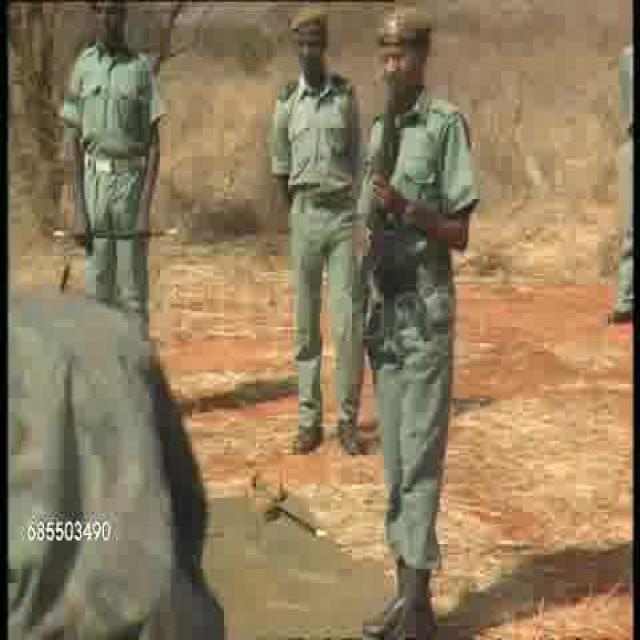poacher: (358, 4, 482, 538), (266, 1, 368, 446), (62, 3, 158, 320)
weapon: (370, 77, 400, 330)
